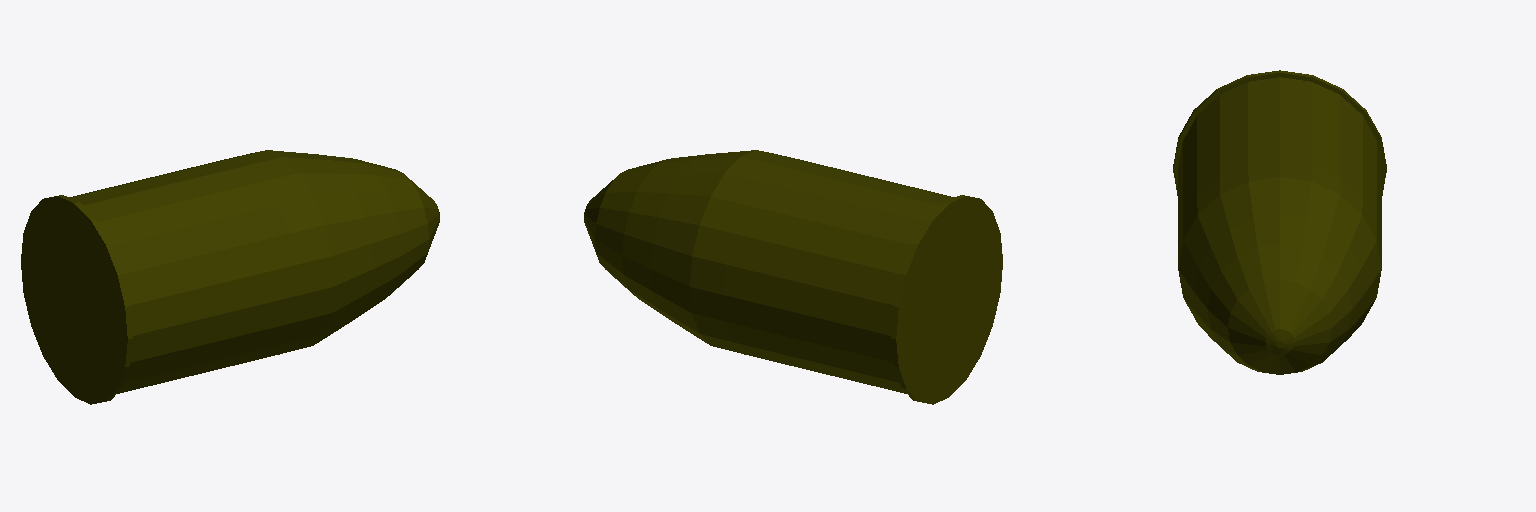
Rendered from Bullet.obj.
3 views of the same model, side by side, from view 1: azimuth 30°, elevation 25°; view 2: azimuth 150°, elevation 25°; view 3: azimuth 270°, elevation 25° (orthographic).
Visible parts, largest first — view 1: pCylinder10 group2; view 2: pCylinder10 group2; view 3: pCylinder10 group2.
Boxes of the visible parts, x1=… form: pCylinder10 group2: x1=21, y1=150, x2=439, y2=404; pCylinder10 group2: x1=584, y1=150, x2=1002, y2=404; pCylinder10 group2: x1=1173, y1=70, x2=1386, y2=374.
Bounding box in the file's own units: 1.77 × 0.9025 × 0.9025.